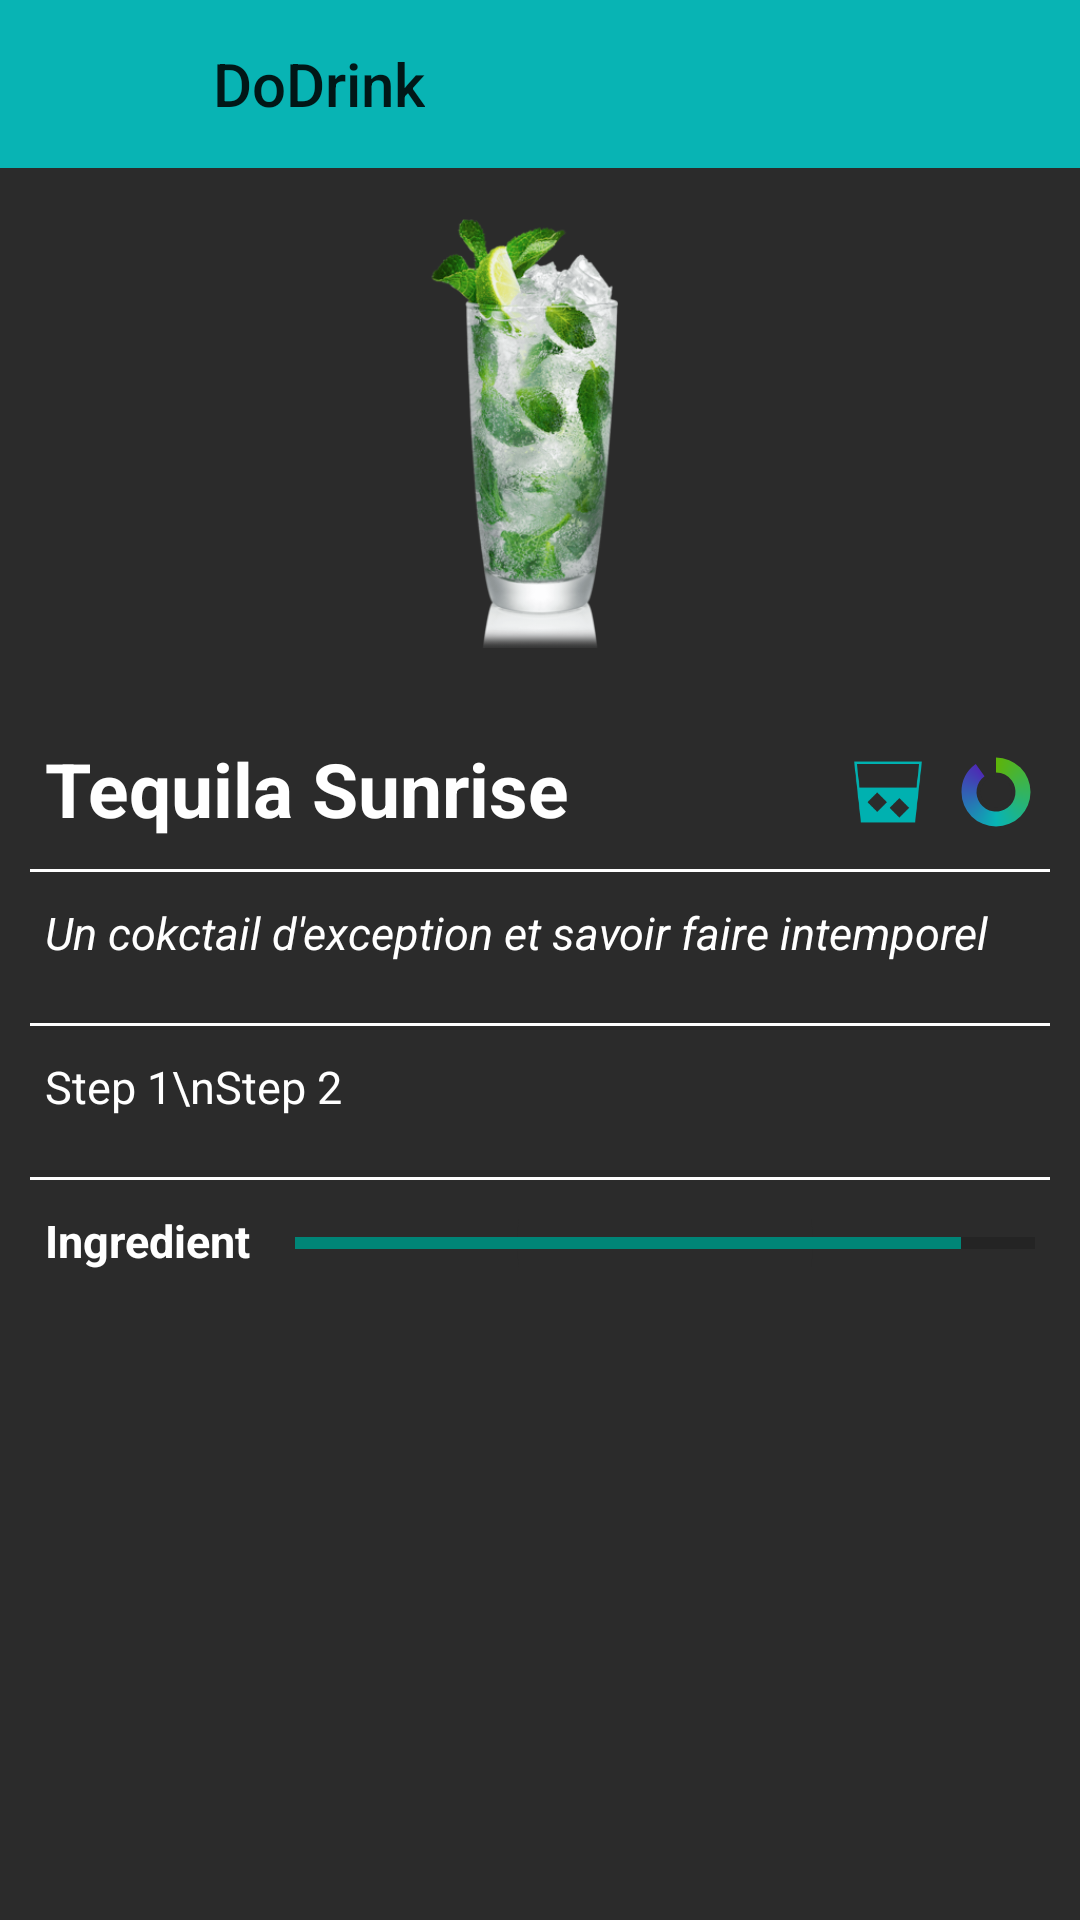

Icons on this 1080w x 1920h Android screen, each with the point to tap as (x,y):
drink: (888,792)
